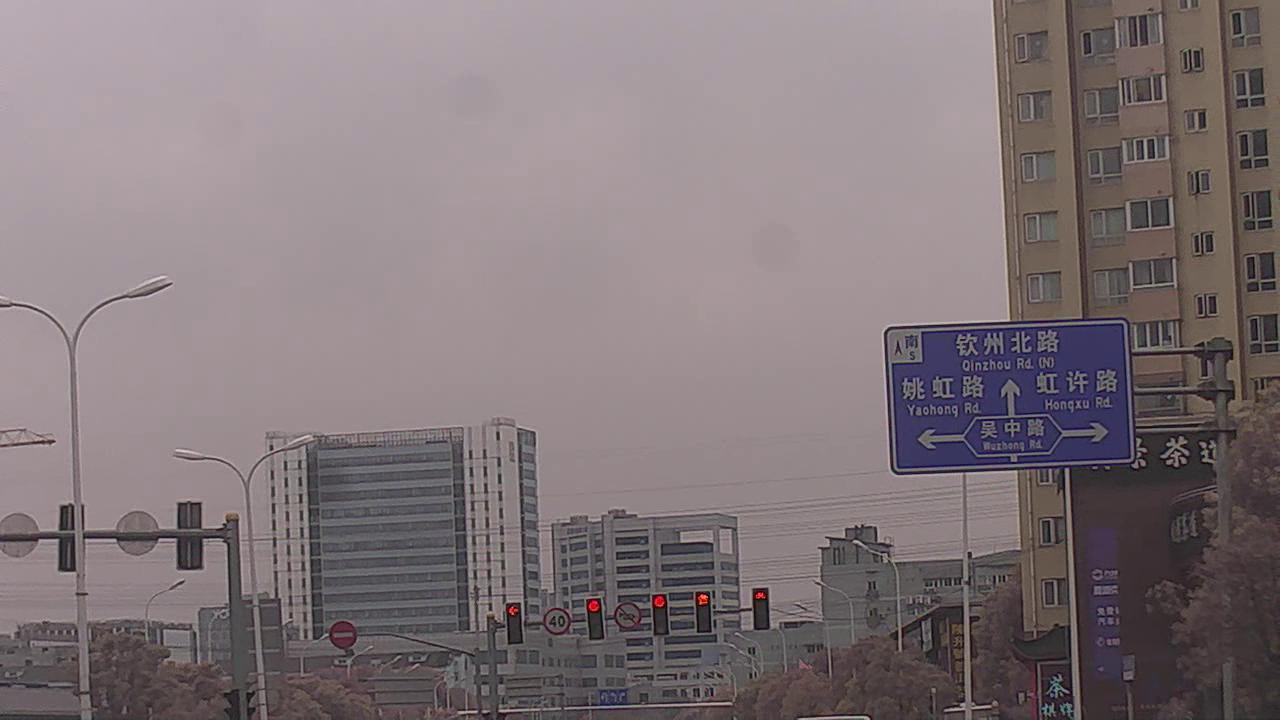traffic_light: (652, 595, 674, 637), (695, 589, 714, 633), (505, 603, 523, 645), (750, 587, 768, 628), (587, 598, 604, 639)
